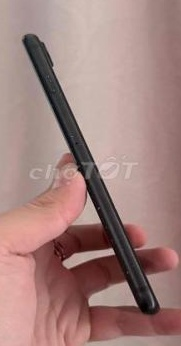scratch: (94, 204, 138, 275), (39, 69, 61, 95), (68, 127, 77, 139)
